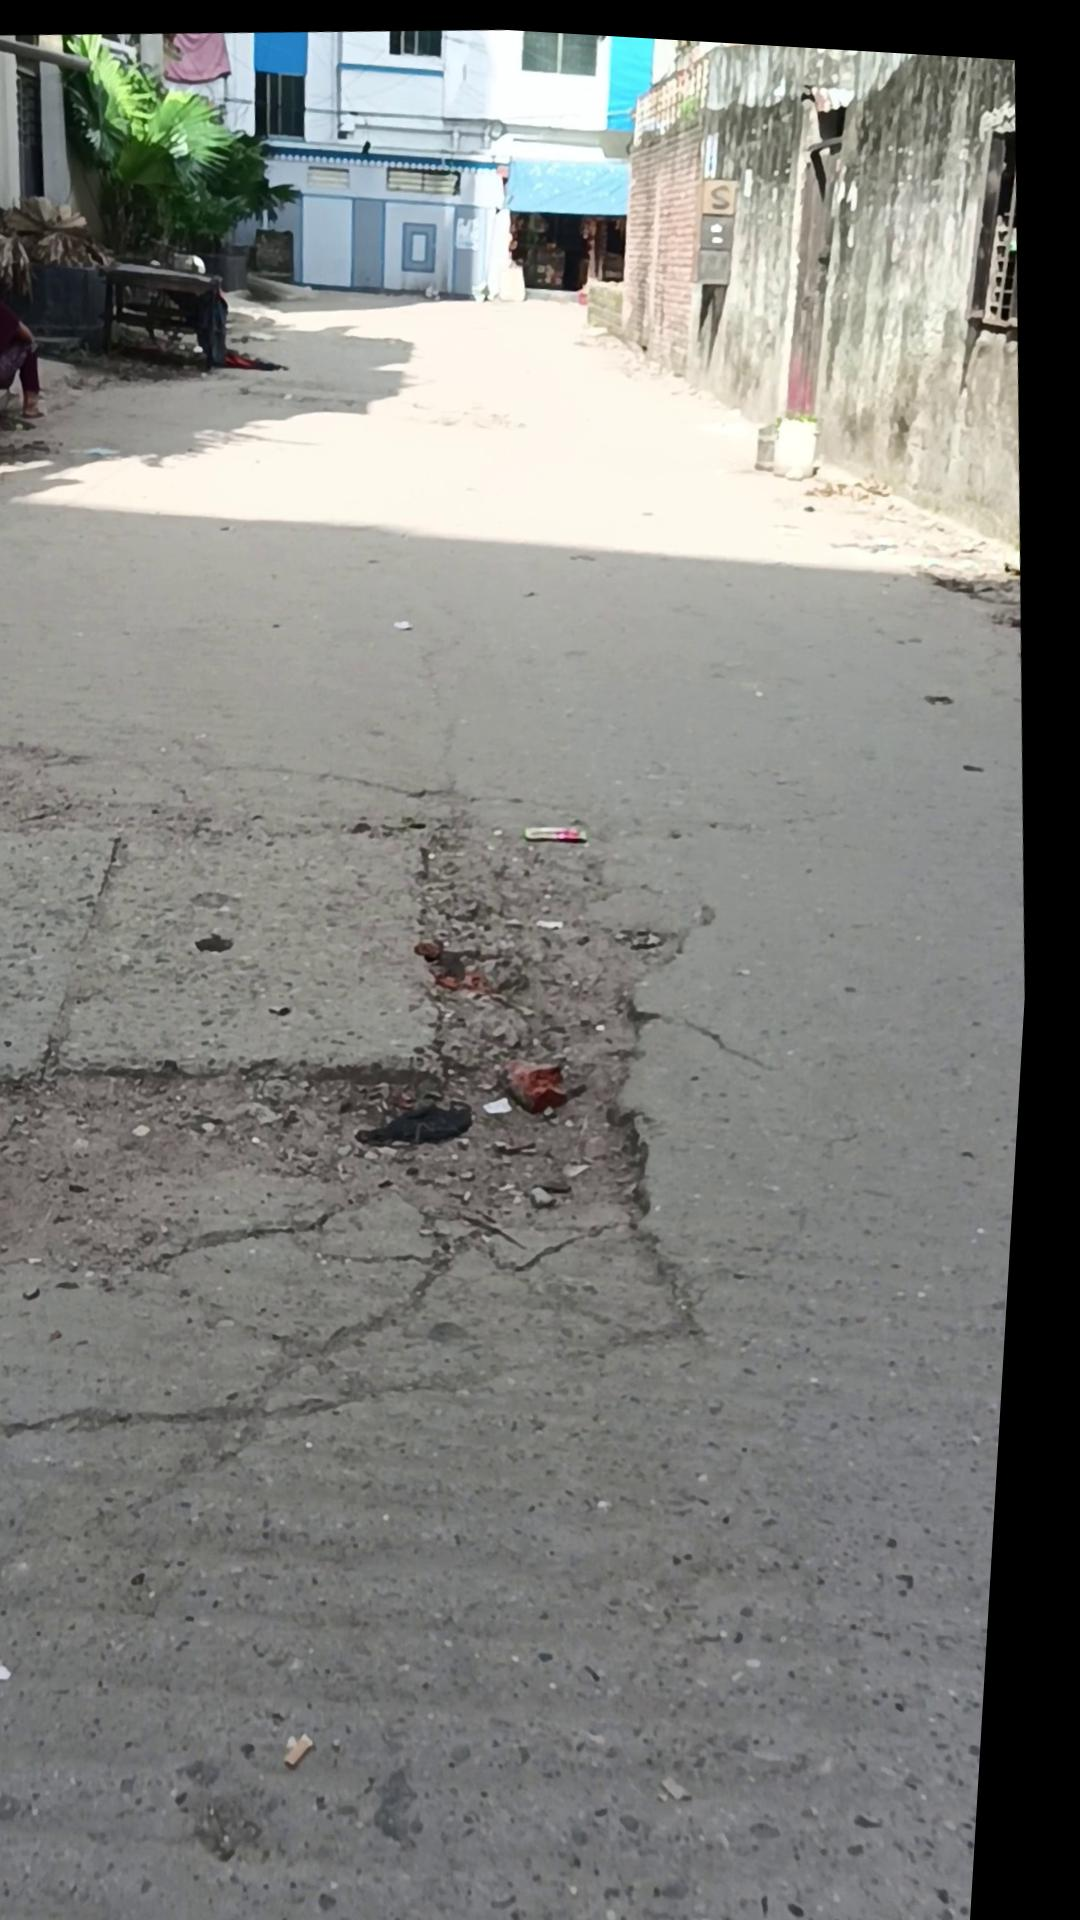Broken-road: (0, 203, 1071, 1920)
Crosswalk: (0, 372, 21, 429)
Motorcycle: (94, 251, 237, 377)
Muddy road: (0, 249, 58, 425)
